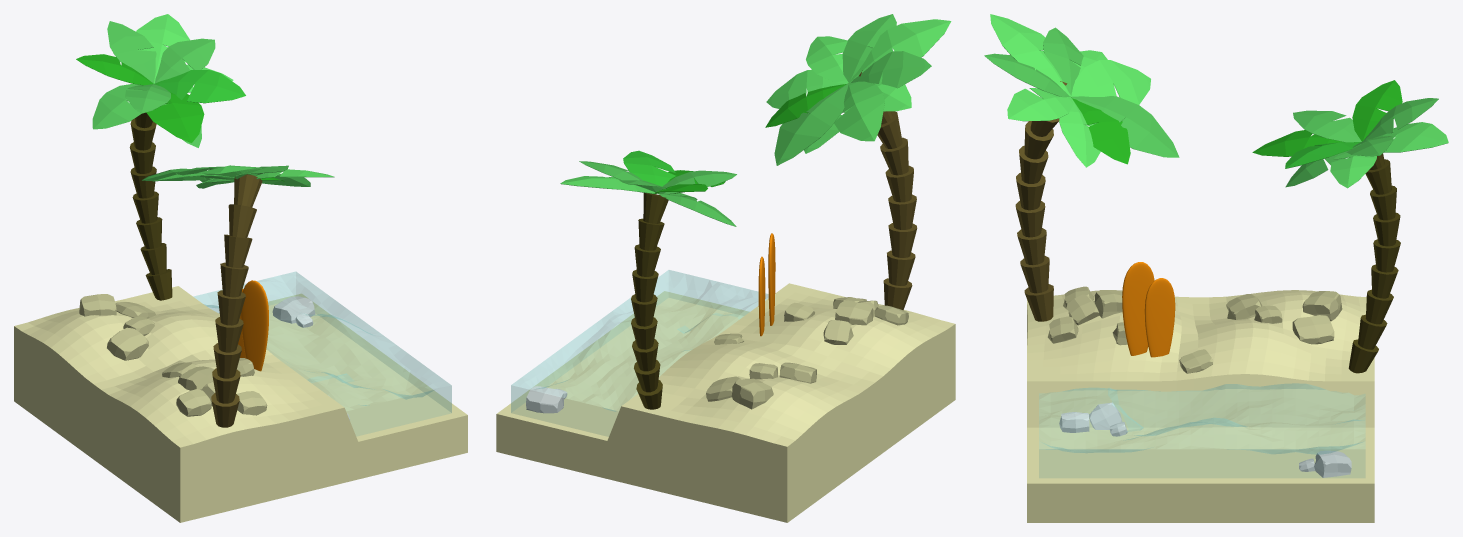
The model's file is model_low_polygon_second.glb.
3 renders of one model, left to right at view 1: azimuth 30°, elevation 25°; view 2: azimuth 150°, elevation 25°; view 3: azimuth 270°, elevation 25°, orthographic. The views are drawn at different scales.
Parts seen in each view (by area): view 1: Terrain, Sea, Trunk.005, Trunk, Surfing board, Leaf.007, Leaf, Leaf.009, Leaf.001, Leaf.002, Leaf.003, Leaf.005 (+7 smaller); view 2: Terrain, Sea, Trunk, Trunk.005, Leaf.019, Leaf.017, Leaf.013, Leaf.010, Leaf.011, Leaf.015, Leaf.012, Leaf.007 (+13 smaller); view 3: Terrain, Sea, Trunk.005, Trunk, Leaf.019, Leaf.017, Surfing board, Leaf.013, Surfing board.002, Leaf, Leaf.016, Leaf.015 (+20 smaller).
Boxes of the visible parts, bbox=[...] form: Terrain: bbox=[14, 286, 467, 522]; Sea: bbox=[193, 271, 451, 435]; Trunk.005: bbox=[211, 174, 262, 427]; Trunk: bbox=[129, 112, 172, 300]; Surfing board: bbox=[241, 280, 268, 371]; Leaf.007: bbox=[154, 70, 245, 103]; Leaf: bbox=[107, 21, 201, 147]; Leaf.009: bbox=[146, 84, 204, 142]; Leaf.001: bbox=[154, 38, 215, 83]; Leaf.002: bbox=[92, 84, 141, 129]; Leaf.003: bbox=[136, 14, 189, 83]; Leaf.005: bbox=[76, 54, 153, 85]; Terrain: bbox=[496, 283, 955, 522]; Sea: bbox=[511, 270, 768, 436]; Trunk: bbox=[631, 193, 668, 409]; Trunk.005: bbox=[848, 70, 917, 310]; Leaf.019: bbox=[774, 83, 848, 165]; Leaf.017: bbox=[834, 81, 884, 141]; Leaf.013: bbox=[849, 19, 951, 83]; Leaf.010: bbox=[804, 14, 896, 153]; Leaf.011: bbox=[851, 51, 931, 88]; Leaf.015: bbox=[806, 36, 848, 83]; Leaf.012: bbox=[766, 69, 847, 108]; Leaf.007: bbox=[623, 150, 675, 186]; Terrain: bbox=[1027, 290, 1374, 522]; Sea: bbox=[1039, 383, 1365, 477]; Trunk.005: bbox=[1015, 81, 1067, 321]; Trunk: bbox=[1348, 153, 1400, 373]; Leaf.019: bbox=[1071, 96, 1179, 157]; Leaf.017: bbox=[1071, 60, 1150, 104]; Surfing board: bbox=[1122, 262, 1154, 355]; Leaf.013: bbox=[990, 14, 1071, 96]; Surfing board.002: bbox=[1144, 278, 1175, 357]; Leaf: bbox=[1285, 98, 1438, 187]; Leaf.016: bbox=[1071, 97, 1130, 164]; Leaf.015: bbox=[1007, 88, 1073, 121].
Size of the model in its own units: 8.04 by 9.47 by 10.69.
